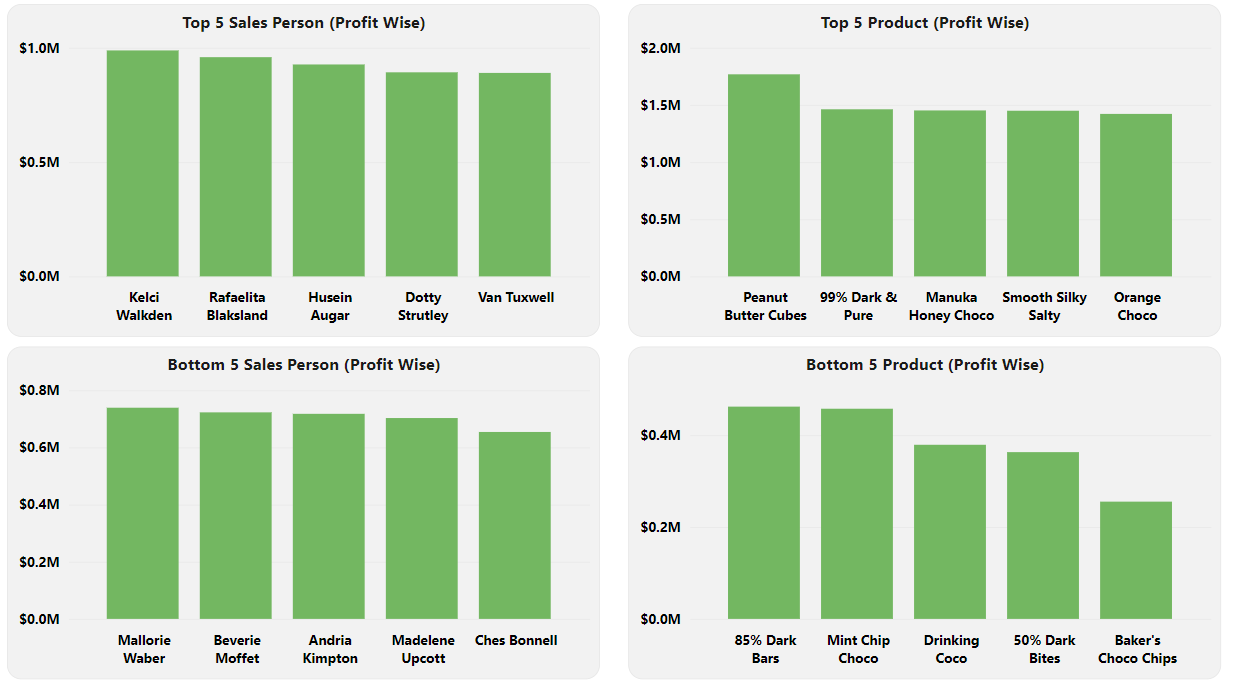

Layout of this report page (visuals, bound fields, positions):
{"tool":"powerbi","page":{"name":"Performance","canvas":[1280,720],"ordinal":1},"visuals":[{"type":"clusteredColumnChart","title":"Top 5 Sales Person (Profit Wise)","fields":{"Category":["people.Sales person"],"Y":["_Measure Tables.Total Profit"]},"box":[44,34.2,579.6,325.3],"z":0},{"type":"clusteredColumnChart","title":"Top 5 Product (Profit Wise)","fields":{"Y":["_Measure Tables.Total Profit"],"Category":["products.Product"]},"box":[651.8,34.2,579.6,325.3],"z":1},{"type":"clusteredColumnChart","title":"Bottom 5 Sales Person (Profit Wise)","fields":{"Category":["people.Sales person"],"Y":["_Measure Tables.Total Profit"]},"box":[44,369.3,579.6,325.3],"z":2},{"type":"clusteredColumnChart","title":"Bottom 5 Product (Profit Wise)","fields":{"Y":["_Measure Tables.Total Profit"],"Category":["products.Product"]},"box":[651.8,369.3,579.6,325.3],"z":3}]}

Visuals, with their boxes in screenshot pixels (x1, y1, x2, y2), scaled from the page's 1280x720 canvas onto the 1245x695 screenshot:
"Top 5 Sales Person (Profit Wise)" clusteredColumnChart: region(43, 33, 607, 347)
"Top 5 Product (Profit Wise)" clusteredColumnChart: region(634, 33, 1198, 347)
"Bottom 5 Sales Person (Profit Wise)" clusteredColumnChart: region(43, 356, 607, 670)
"Bottom 5 Product (Profit Wise)" clusteredColumnChart: region(634, 356, 1198, 670)
